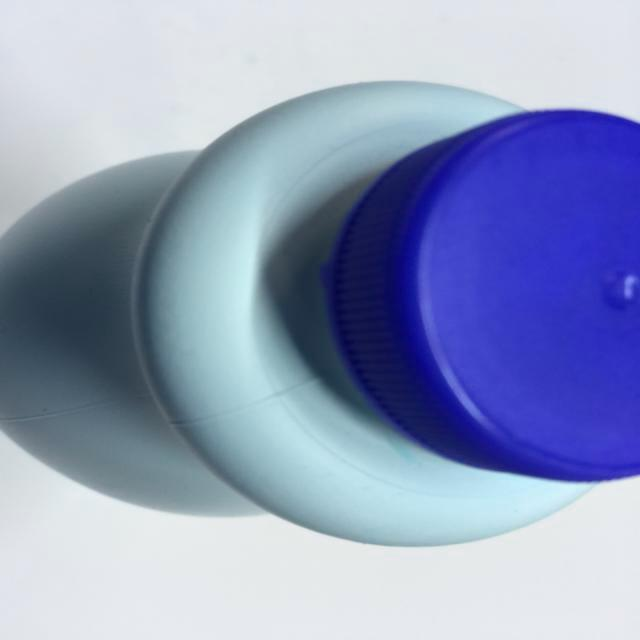plastic: (0, 77, 640, 552)
